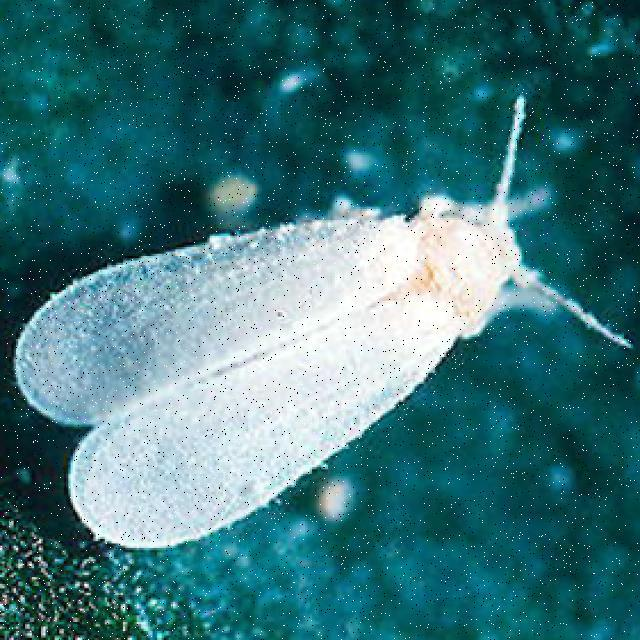Whiteflies: (25, 69, 599, 554)
